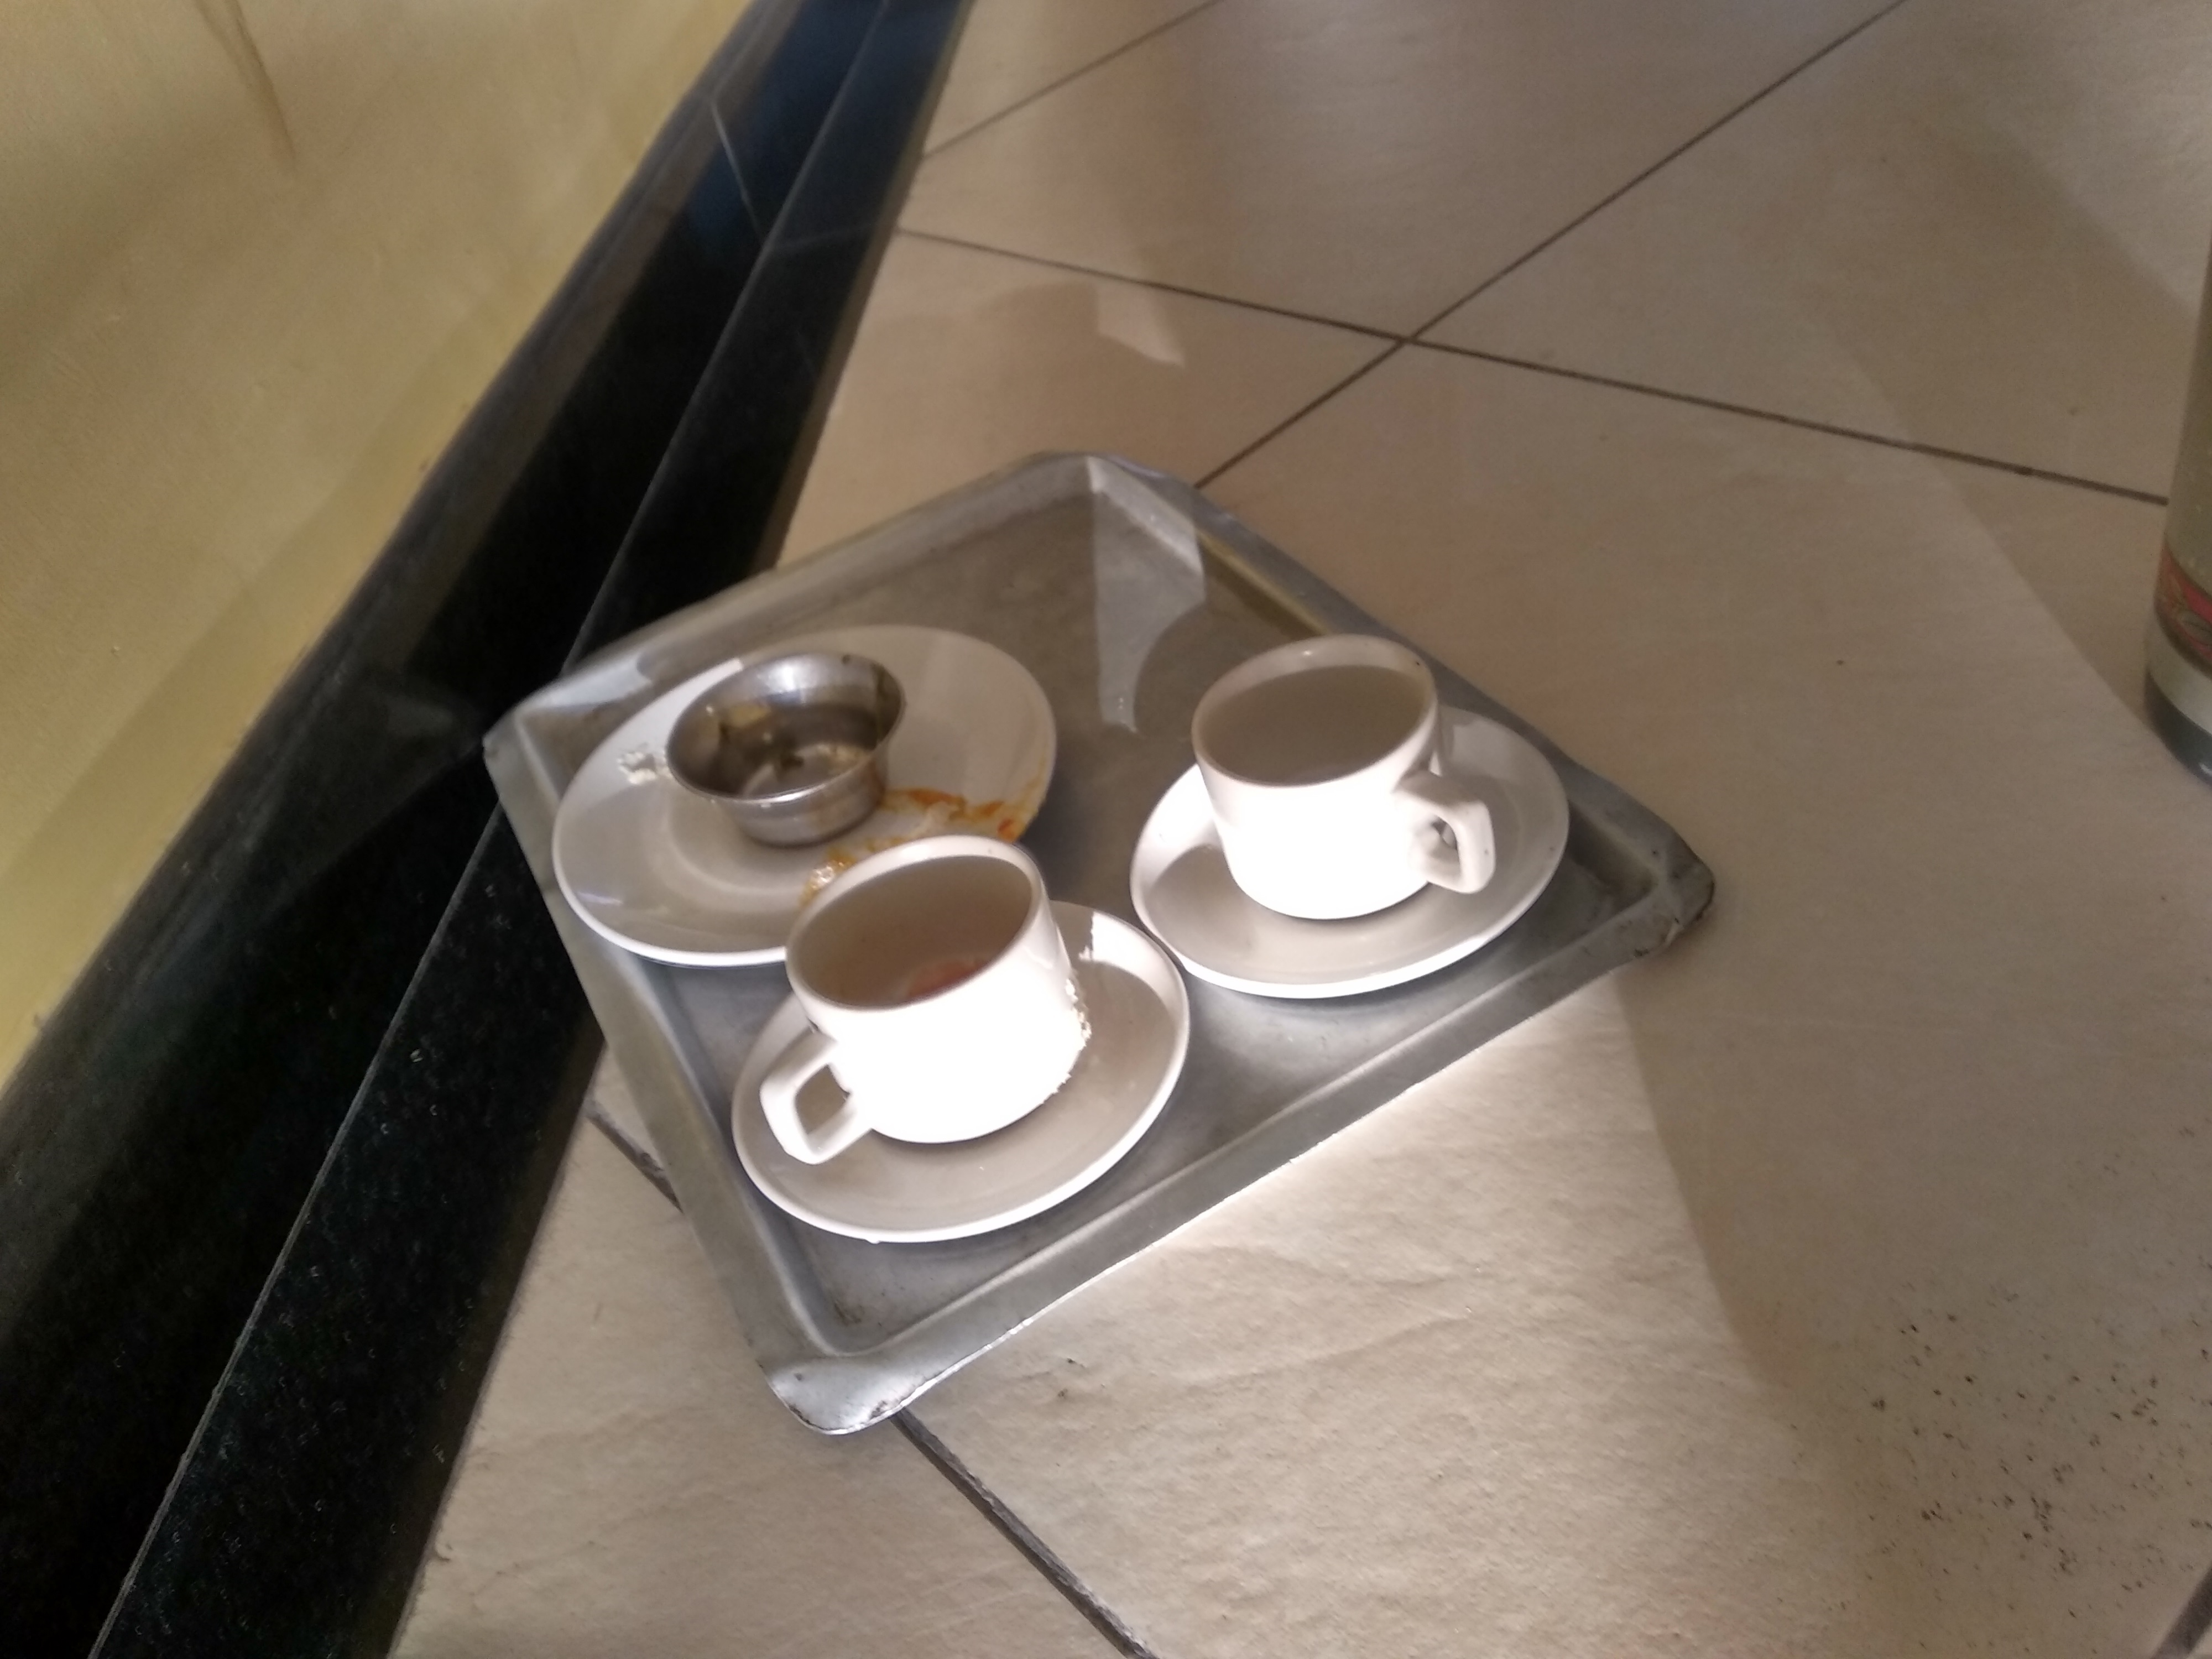CUP: (752, 833, 1085, 1157), (1184, 634, 1503, 924), (667, 641, 914, 828)
